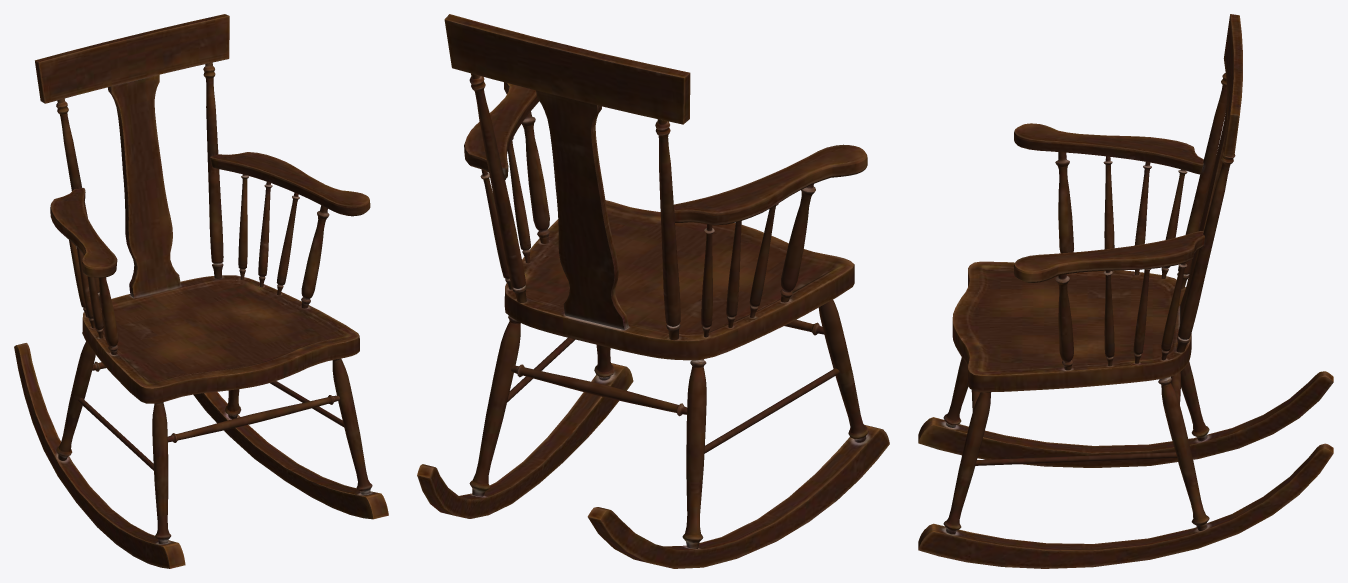
3 views of the same model, side by side, from view 1: azimuth 30°, elevation 25°; view 2: azimuth 150°, elevation 25°; view 3: azimuth 270°, elevation 25° (orthographic). The views are drawn at different scales.
Visible parts, largest first — view 1: Rockingchair_01; view 2: Rockingchair_01; view 3: Rockingchair_01.
Part boxes in pixels (x1,y1,x2,y2): Rockingchair_01: (14,14,388,568); Rockingchair_01: (417,14,889,568); Rockingchair_01: (918,14,1333,568).
Size of the model in its own units: 0.7081 by 0.9949 by 0.8335.
Materials: 1 (1 with a texture image).
